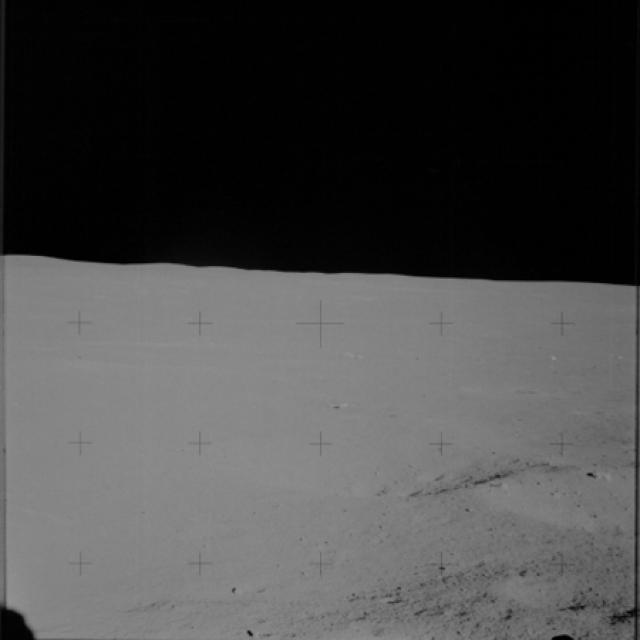crater: (227, 428, 544, 505), (498, 460, 638, 550), (473, 564, 620, 621)
